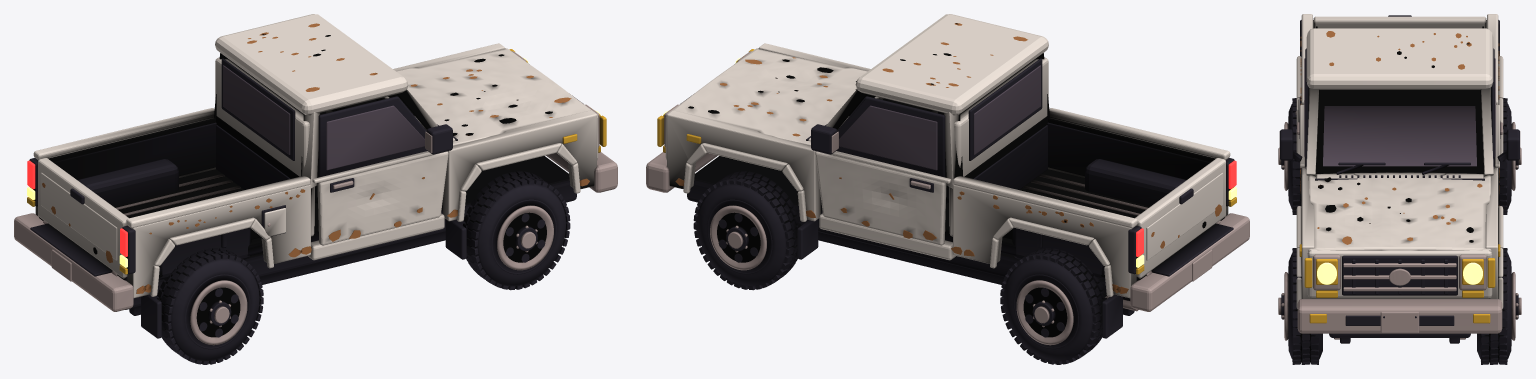
The model's file is veh.pickup-white.glb.
3 views of the same model, side by side, from view 1: azimuth 30°, elevation 25°; view 2: azimuth 150°, elevation 25°; view 3: azimuth 270°, elevation 25° (orthographic).
Visible parts, largest first — view 1: body, object 8, wheelFR, wheelRR; view 2: body, object 8, wheelFL, wheelRL; view 3: body, object 8, wheelFR, wheelFL, wheelRL, wheelRR, lightsFront.
Part boxes in pixels (x1,y1,x2,y2): body: (14,14,617,338); object 8: (27,56,601,278); wheelFR: (463,171,570,290); wheelRR: (157,248,263,364); body: (646,14,1249,338); object 8: (662,56,1236,278); wheelFL: (693,171,800,290); wheelRL: (1000,248,1106,364); body: (1295,14,1503,343); object 8: (1279,15,1520,284); wheelFR: (1278,248,1322,364); wheelFL: (1477,248,1521,364); wheelRL: (1498,98,1521,214); wheelRR: (1278,98,1301,214); lightsFront: (1304,258,1495,297).
Size of the model in its own units: 4.4 by 1.9 by 1.8.
